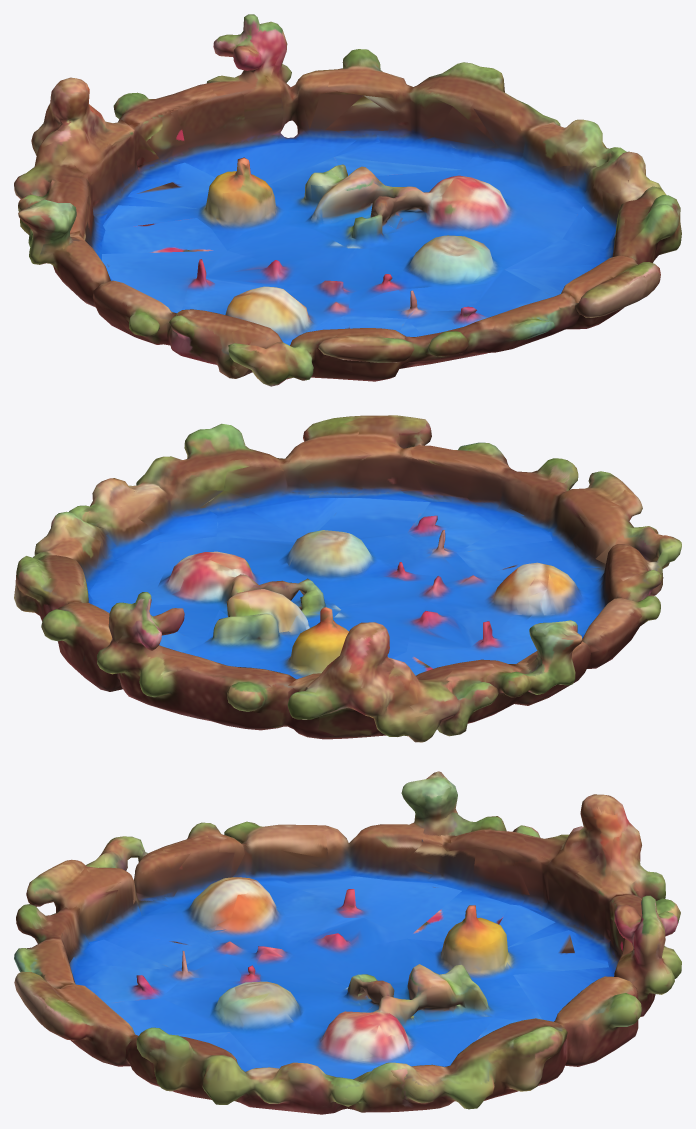
The model's file is CF_Pond.fbx.
The picture shows the model from 3 angles, top to bottom: view 1: azimuth 30°, elevation 25°; view 2: azimuth 150°, elevation 25°; view 3: azimuth 270°, elevation 25°; orthographic projection.
Visible parts, largest first — view 1: CF_Pond; view 2: CF_Pond; view 3: CF_Pond.
Part boxes in pixels (bbox=[...]): CF_Pond: bbox=[14, 14, 681, 386]; CF_Pond: bbox=[14, 415, 681, 742]; CF_Pond: bbox=[14, 771, 681, 1114].
Bounding box in the file's own units: 11.78 × 2.38 × 12.
